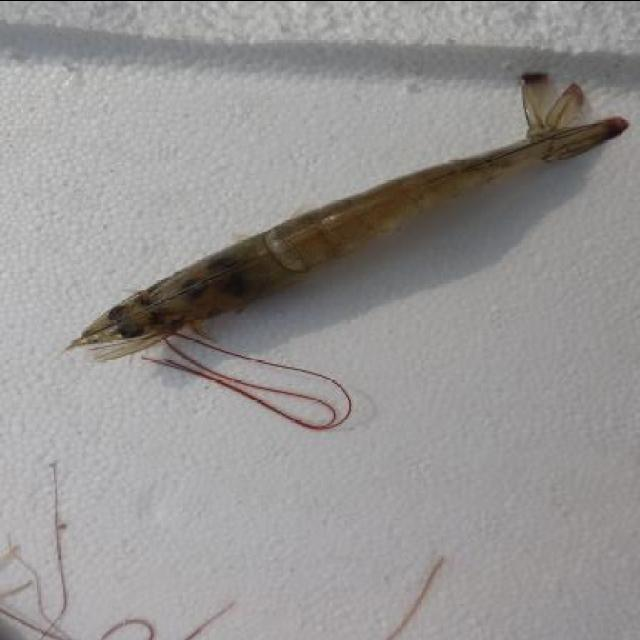shrimp: (61, 56, 628, 366)
